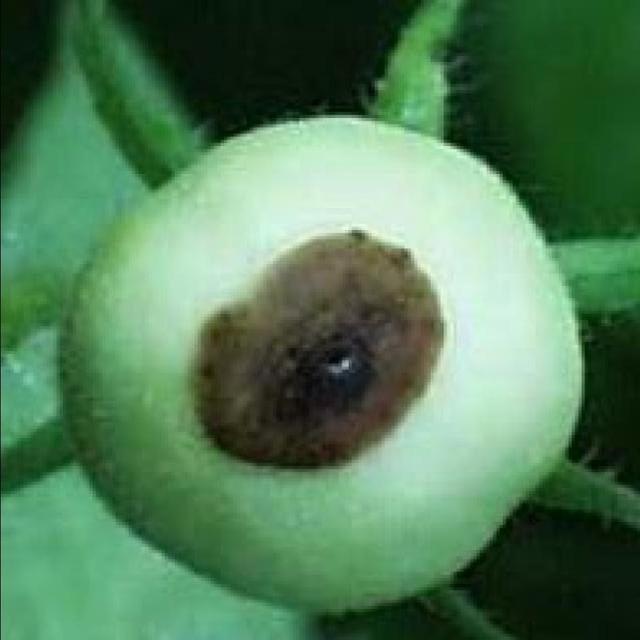Blossom End Rot Fruit: (130, 150, 301, 316)
